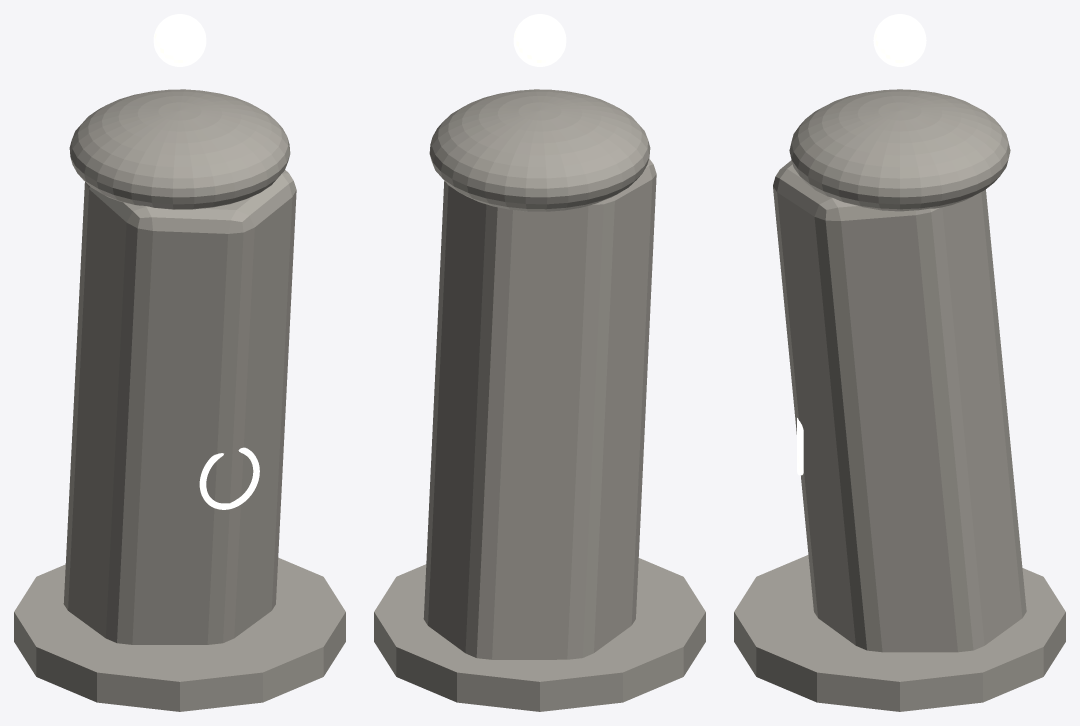
File: LoreStone369.fbx
The picture shows the model from 3 angles, left to right: view 1: azimuth 30°, elevation 25°; view 2: azimuth 150°, elevation 25°; view 3: azimuth 270°, elevation 25°; orthographic projection.
Parts seen in each view (by area): view 1: LoreStone369; view 2: LoreStone369; view 3: LoreStone369.
Boxes of the visible parts, <box> form: LoreStone369: <box>14,14,345,711</box>; LoreStone369: <box>374,14,705,711</box>; LoreStone369: <box>734,14,1065,711</box>.
Bounding box in the file's own units: 1.5 × 3.15 × 1.5.
